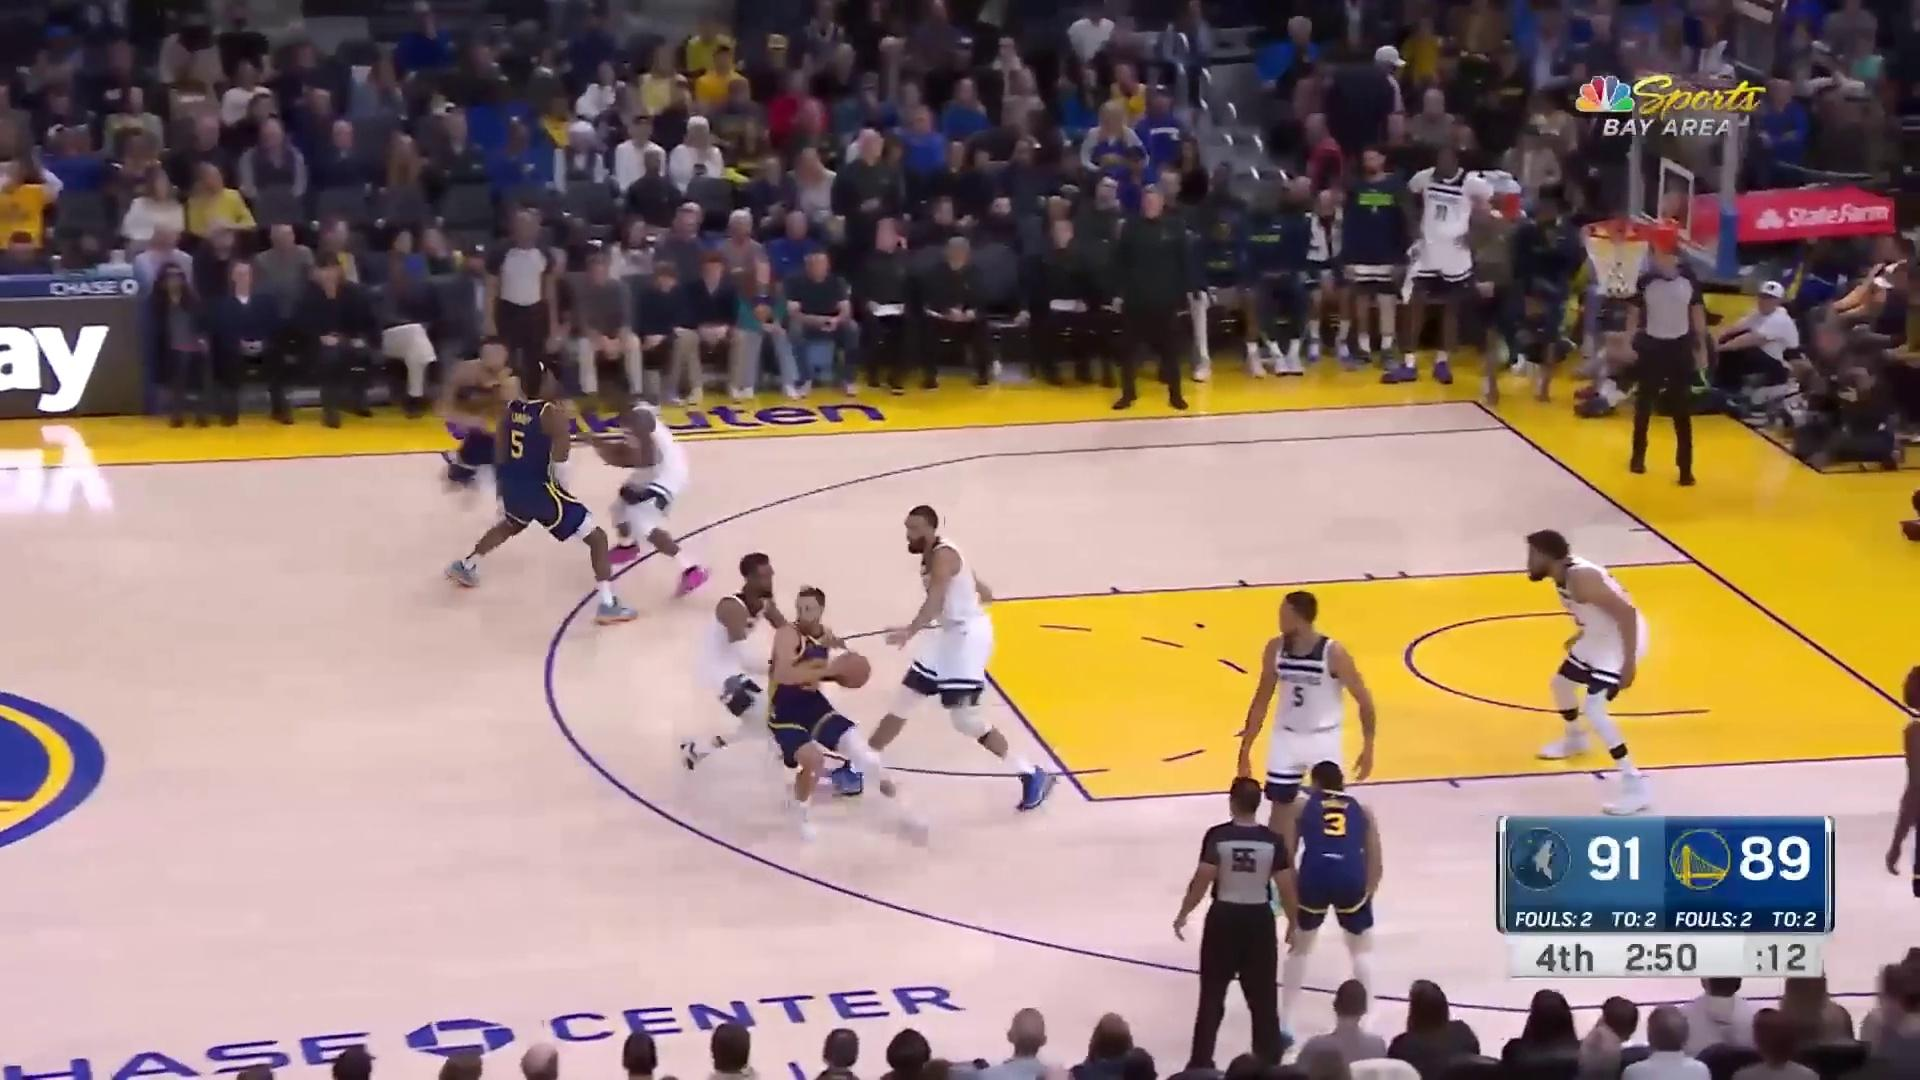Ball: (831, 651, 876, 691)
Player: (839, 506, 1069, 821), (446, 366, 649, 628), (1238, 584, 1383, 923), (774, 588, 936, 854), (1521, 524, 1664, 821), (1263, 763, 1389, 1043), (676, 556, 818, 781), (581, 363, 714, 596), (441, 334, 534, 529)
Rim: (1583, 68, 1744, 296)
